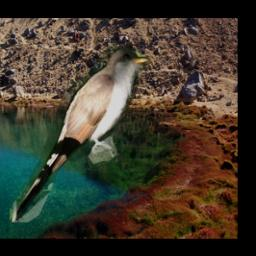Cuckoo: (11, 47, 152, 222)
